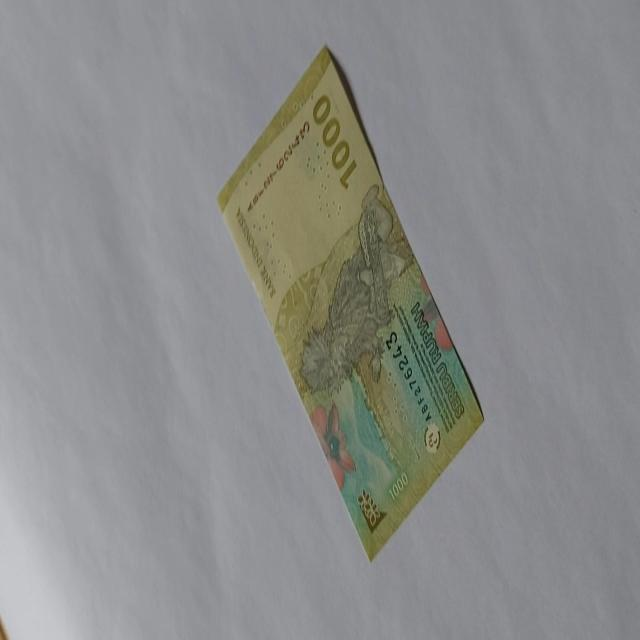seribu rupiah kertas: (217, 44, 486, 562)
